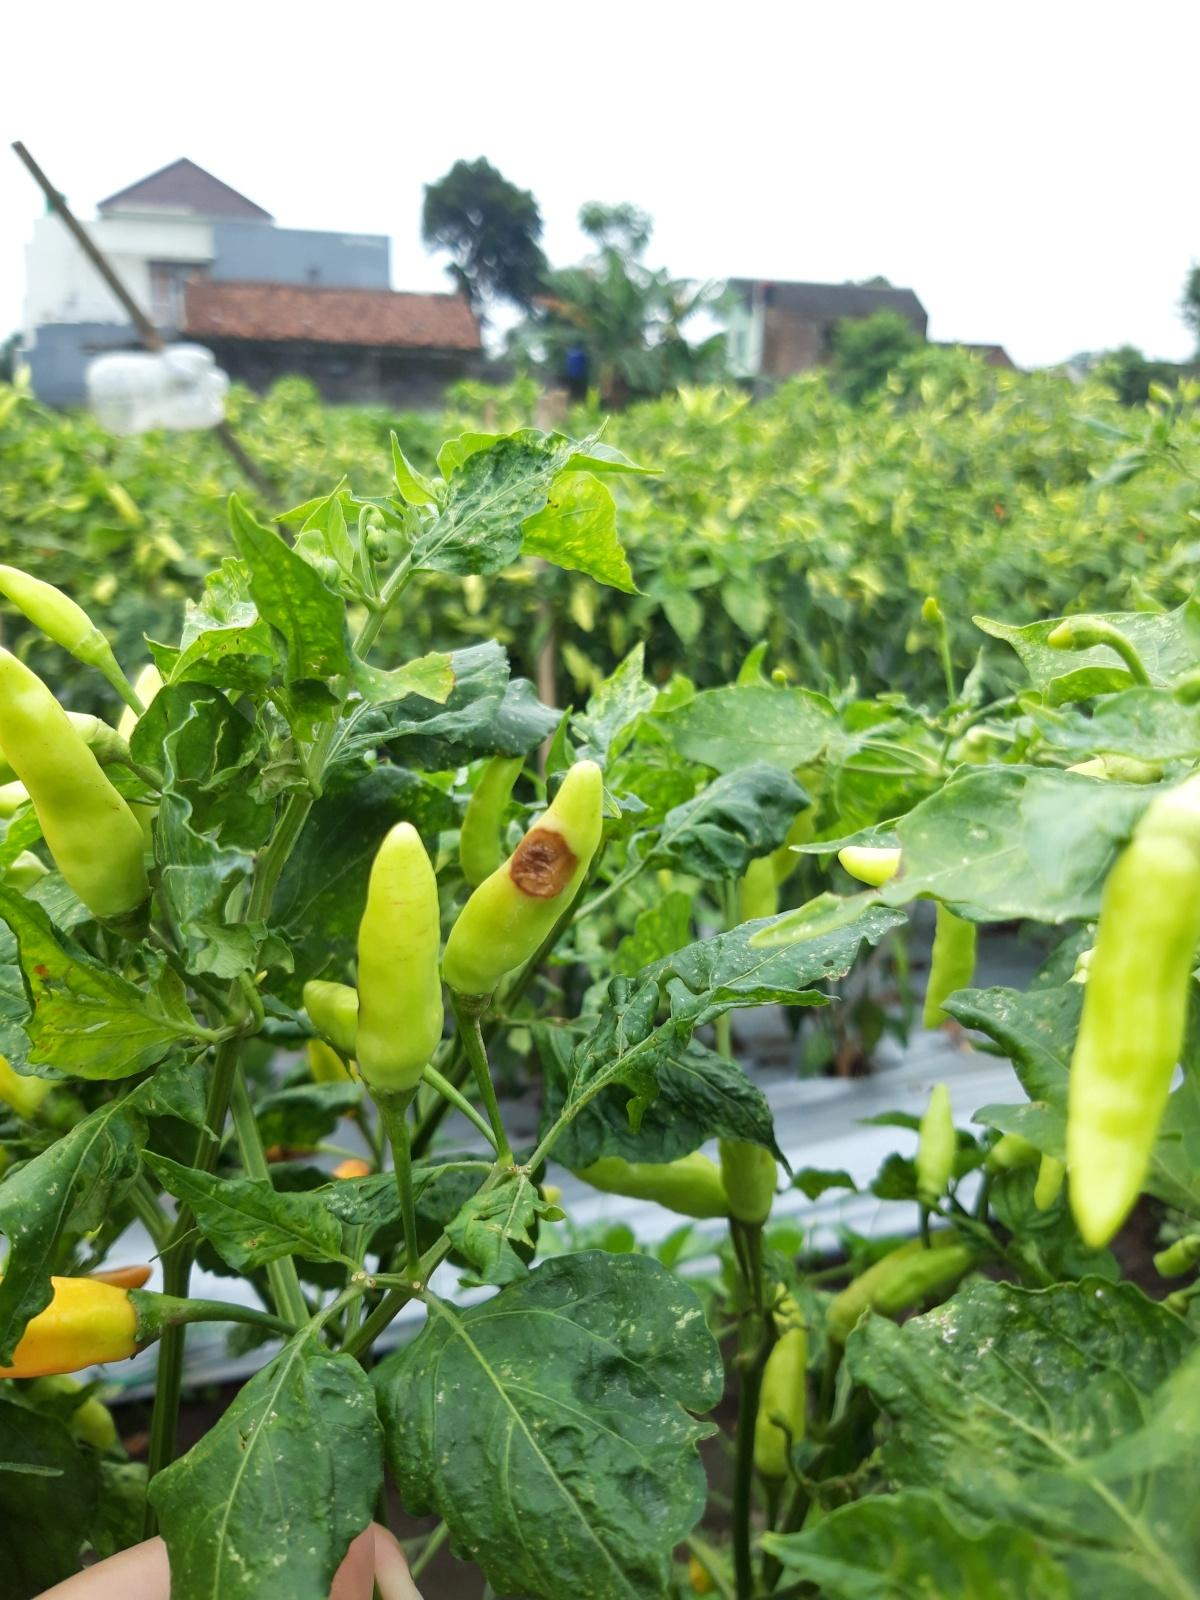cabai_normal: (1066, 777, 1200, 1248), (1, 649, 153, 940), (356, 822, 443, 1107), (579, 1139, 733, 1223), (1, 567, 104, 662), (754, 1329, 807, 1484), (914, 1079, 955, 1203)
lalat_buah: (442, 760, 602, 1015)
